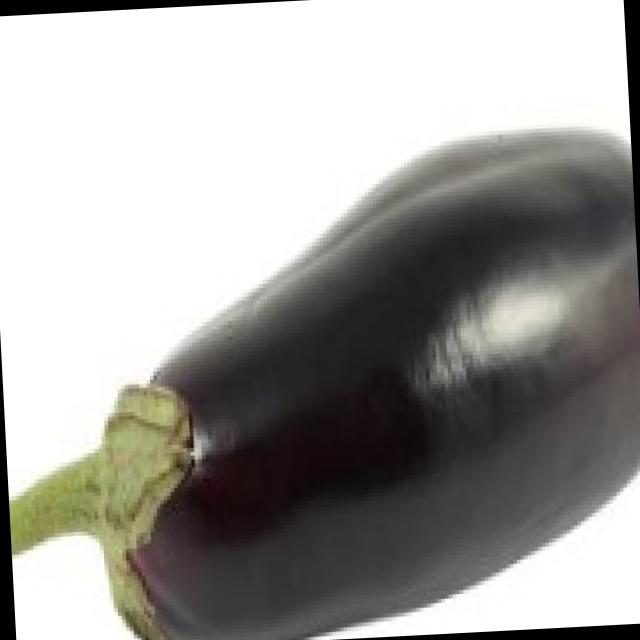eggplant: (86, 119, 640, 640)
